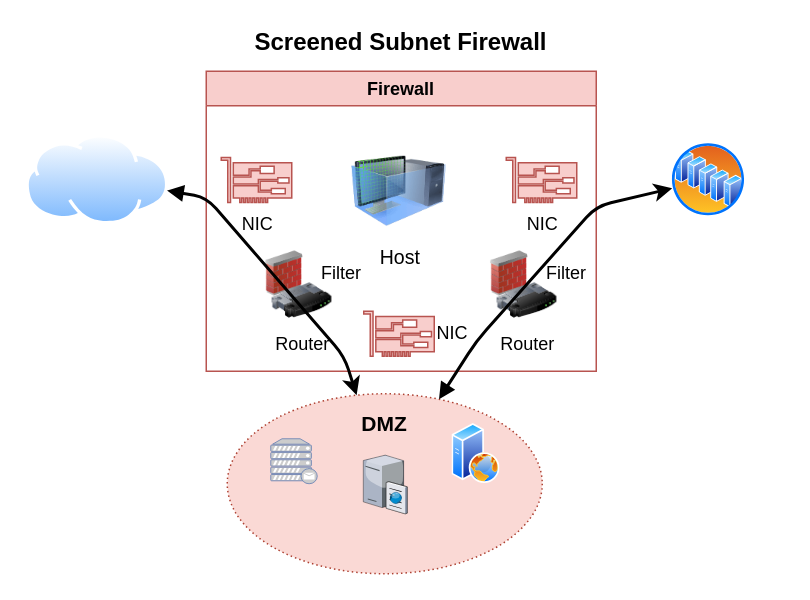
This 810x600 diagram has some shape labels left out. The shapes that lost their labels are listed below. From the top down, each one's centre as x and y in pixels, then its label:
the point at 97,179: Internet
the point at 708,179: Internal machines
the point at 293,460: Mail Servers
the point at 476,453: Web Servers
the point at 384,483: FTP Servers
